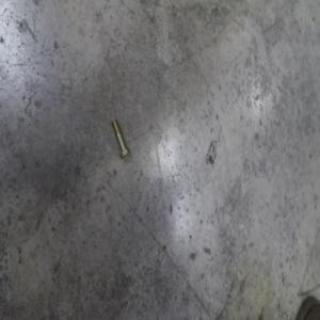Bolttrack_idkeyframe: (110, 116, 128, 160)
